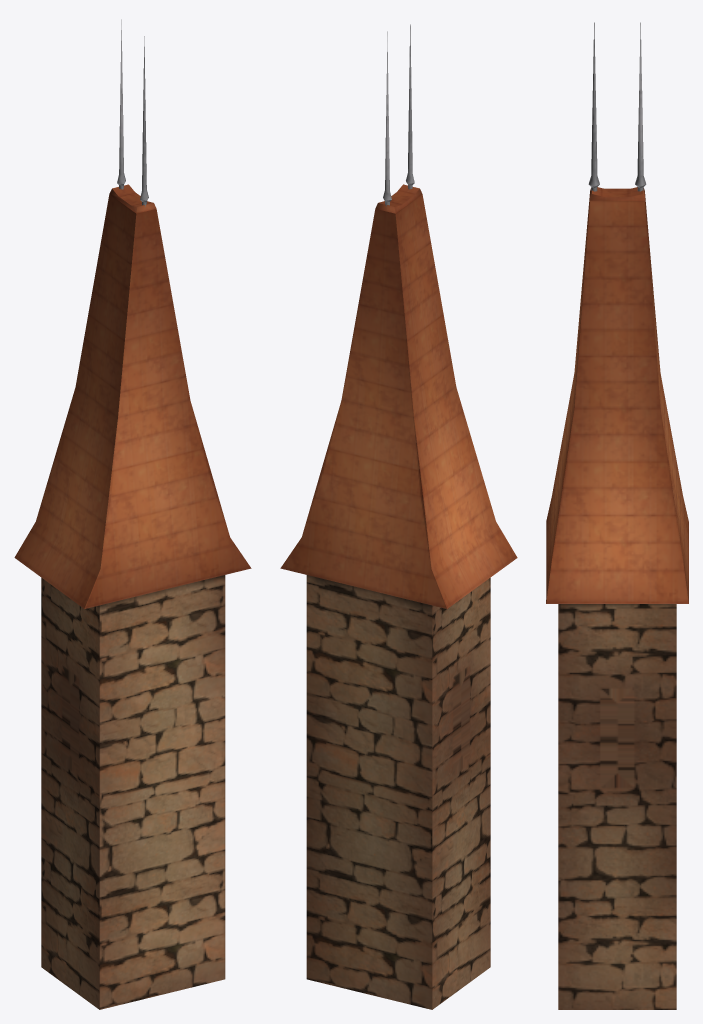
The model's file is sb_obj_outdoor001_Castle01_hut00_col.fbx.
3 renders of one model, left to right at view 1: azimuth 30°, elevation 25°; view 2: azimuth 150°, elevation 25°; view 3: azimuth 270°, elevation 25°, orthographic.
Visible parts, largest first — view 1: sb_obj_outdoor001_Castle01_hut00_col; view 2: sb_obj_outdoor001_Castle01_hut00_col; view 3: sb_obj_outdoor001_Castle01_hut00_col.
Part boxes in pixels (box(x1,y1,x2,y2)): sb_obj_outdoor001_Castle01_hut00_col: box(14, 19, 251, 1009); sb_obj_outdoor001_Castle01_hut00_col: box(280, 24, 517, 1009); sb_obj_outdoor001_Castle01_hut00_col: box(546, 22, 688, 1009).
Size of the model in its own units: 1.15 by 6.28 by 0.8416.
